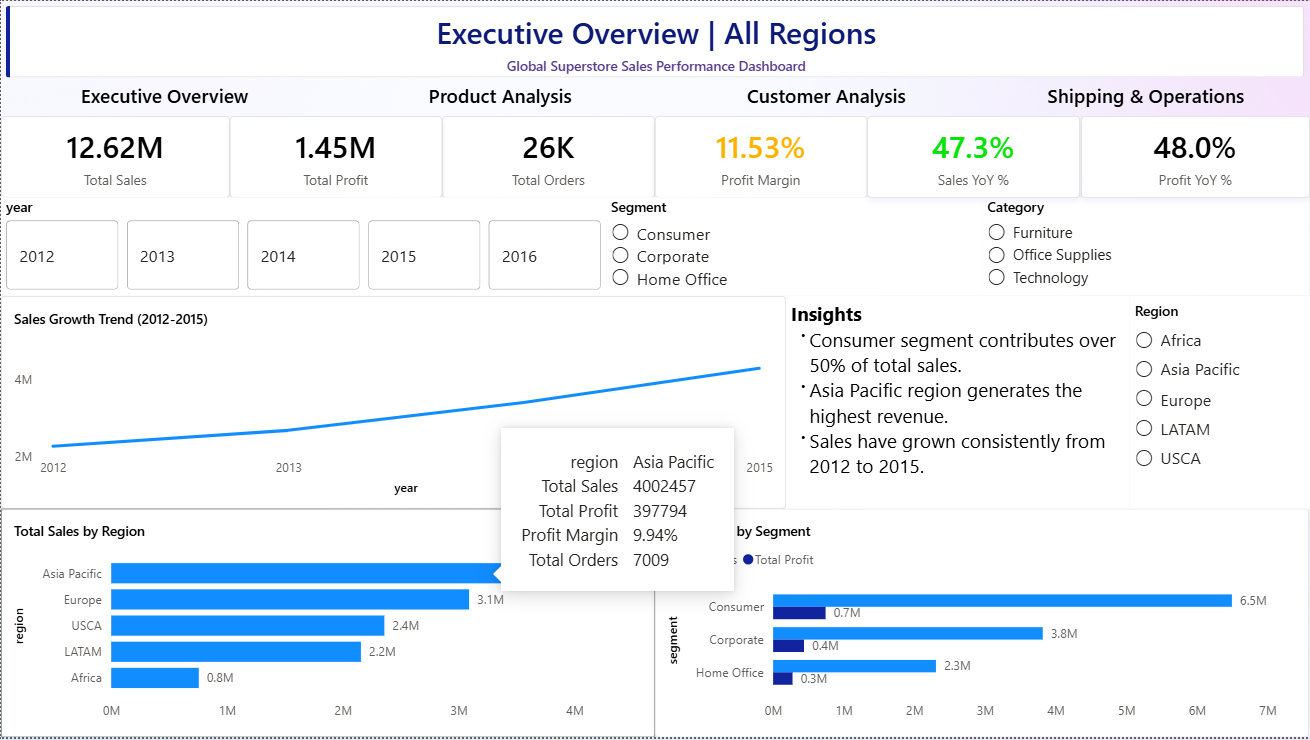

This screenshot's page, from the dashboard's own definition file:
{"tool":"powerbi","page":{"name":"Executive Overview","canvas":[1280,720],"ordinal":0},"visuals":[{"type":"card","fields":{"Values":["BaseMeasures.Total Sales"]},"box":[0,112,224,80],"z":0},{"type":"card","fields":{"Values":["BaseMeasures.Total Orders"]},"box":[432,112,208,80],"z":1000},{"type":"card","fields":{"Values":["BaseMeasures.Total Profit"]},"box":[224,112,208,80],"z":2000},{"type":"card","fields":{"Values":["BaseMeasures.Profit Margin"]},"box":[640,112,208,80],"z":3000},{"type":"lineChart","title":"Sales Growth Trend (2012-2015)","fields":{"Y":["BaseMeasures.Total Sales"],"Category":["dim_date.year Hierarchy.year","dim_date.month_name"]},"box":[0,288,768,208],"z":4000},{"type":"barChart","title":"Total Sales by Region","fields":{"Y":["BaseMeasures.Total Sales"],"Category":["dim_geo.region"]},"box":[0,496,640,224],"z":5000},{"type":"clusteredBarChart","title":"Total Sales by Segment","fields":{"Category":["dim_customer.segment"],"Y":["BaseMeasures.Total Sales","BaseMeasures.Total Profit"]},"box":[640,496,640,224],"z":6000},{"type":"advancedSlicerVisual","fields":{"Values":["dim_date.year Hierarchy.year"]},"box":[0,192,592,96],"z":7000},{"type":"listSlicer","title":"Region","fields":{"Values":["dim_geo.region"]},"box":[1104,288,176,208],"z":8000},{"type":"listSlicer","title":"Segment","fields":{"Values":["dim_customer.segment"]},"box":[592,192,368,96],"z":9000},{"type":"listSlicer","title":"Category","fields":{"Values":["dim_product.category"]},"box":[960,192,320,96],"z":10000},{"type":"card","fields":{"Values":["BaseMeasures.Profit YoY %"]},"box":[1056,112,224,80],"z":11000},{"type":"card","fields":{"Values":["BaseMeasures.Sales YoY %"]},"box":[848,112,208,80],"z":12000},{"type":"cardVisual","fields":{"Data":["BaseMeasures.Dashboard Title"]},"box":[0,0,1280,80],"z":13000},{"type":"textbox","box":[768,288,336,208],"z":14000},{"type":"actionButton","title":"Executive Overview","box":[0,80,320,32],"z":14001},{"type":"actionButton","title":"Product  Analysis","box":[336,80,304,32],"z":14002},{"type":"actionButton","title":"Customer Analysis","box":[656,80,304,32],"z":14004},{"type":"actionButton","title":"Shipping & Operations","box":[960,80,320,32],"z":14005}]}

Visuals, with their boxes in screenshot pixels (x1, y1, x2, y2), scaled from the page's 1280x720 canvas onto the 1310x740 screenshot:
card - BaseMeasures.Total Sales: bbox=[0, 115, 229, 197]
card - BaseMeasures.Total Orders: bbox=[442, 115, 655, 197]
card - BaseMeasures.Total Profit: bbox=[229, 115, 442, 197]
card - BaseMeasures.Profit Margin: bbox=[655, 115, 868, 197]
"Sales Growth Trend (2012-2015)" lineChart: bbox=[0, 296, 786, 510]
"Total Sales by Region" barChart: bbox=[0, 510, 655, 739]
"Total Sales by Segment" clusteredBarChart: bbox=[655, 510, 1309, 739]
advancedSlicerVisual - dim_date.year Hierarchy.year: bbox=[0, 197, 606, 296]
"Region" listSlicer: bbox=[1130, 296, 1309, 510]
"Segment" listSlicer: bbox=[606, 197, 982, 296]
"Category" listSlicer: bbox=[982, 197, 1309, 296]
card - BaseMeasures.Profit YoY %: bbox=[1081, 115, 1309, 197]
card - BaseMeasures.Sales YoY %: bbox=[868, 115, 1081, 197]
cardVisual - BaseMeasures.Dashboard Title: bbox=[0, 0, 1309, 82]
textbox: bbox=[786, 296, 1130, 510]
"Executive Overview" actionButton: bbox=[0, 82, 328, 115]
"Product  Analysis" actionButton: bbox=[344, 82, 655, 115]
"Customer Analysis" actionButton: bbox=[671, 82, 982, 115]
"Shipping & Operations" actionButton: bbox=[982, 82, 1309, 115]
